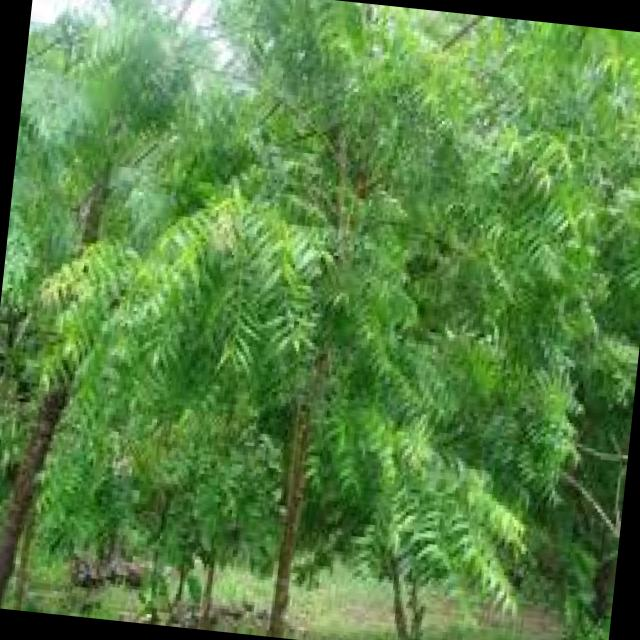Medicinal-Neem: (109, 0, 592, 506)
